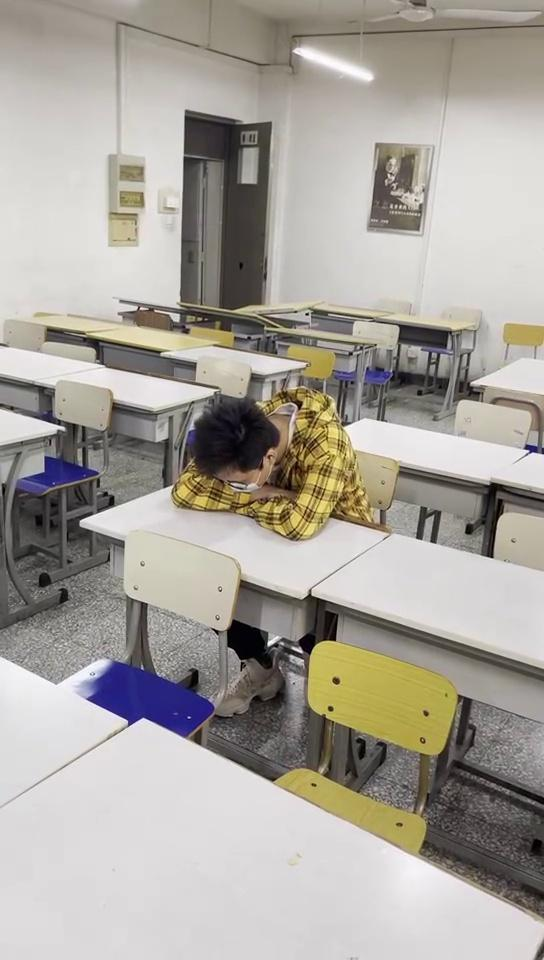sleep: (169, 387, 362, 539)
